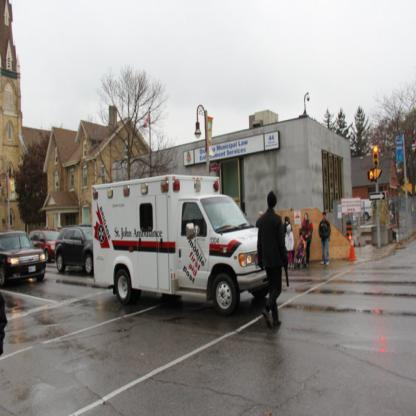Ambulance - v1 Ambulance last generate: (90, 174, 274, 318)
